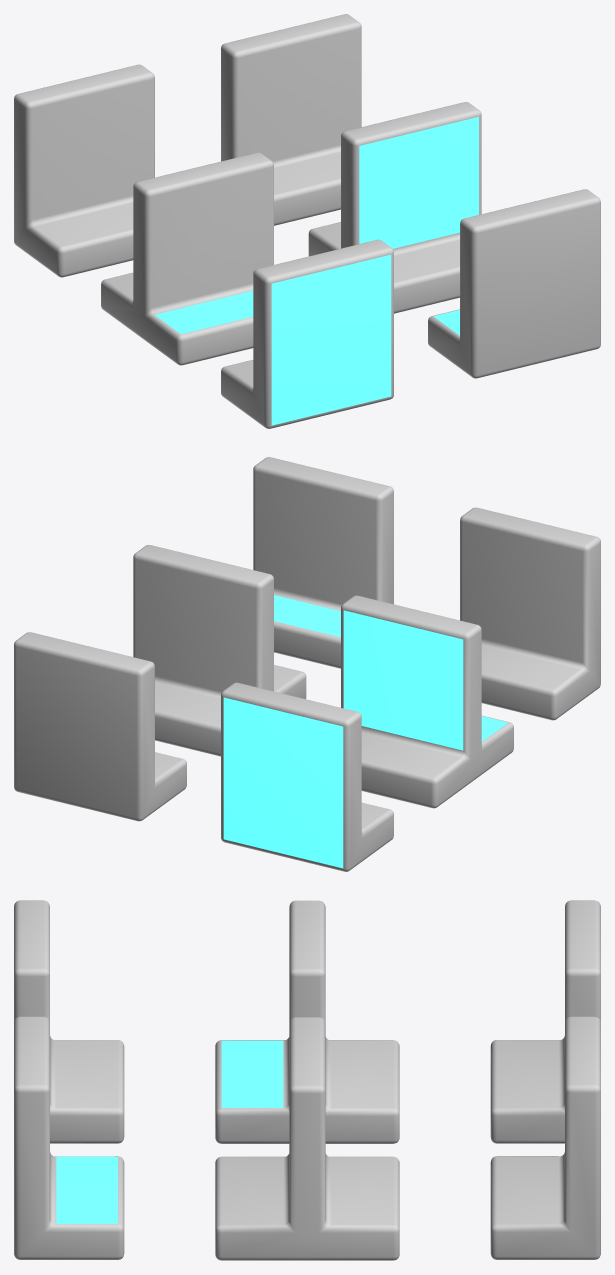
Rendered from chaircollision.glb.
3 renders of one model, top to bottom at view 1: azimuth 30°, elevation 25°; view 2: azimuth 150°, elevation 25°; view 3: azimuth 270°, elevation 25°, orthographic. The views are drawn at different scales.
Visible parts, largest first — view 1: chaircollision; view 2: chaircollision; view 3: chaircollision.
Part boxes in pixels (bbox=[...]): chaircollision: bbox=[14, 14, 600, 428]; chaircollision: bbox=[14, 457, 600, 871]; chaircollision: bbox=[14, 900, 600, 1260].
Size of the model in its own units: 2859 by 1234 by 3746.
